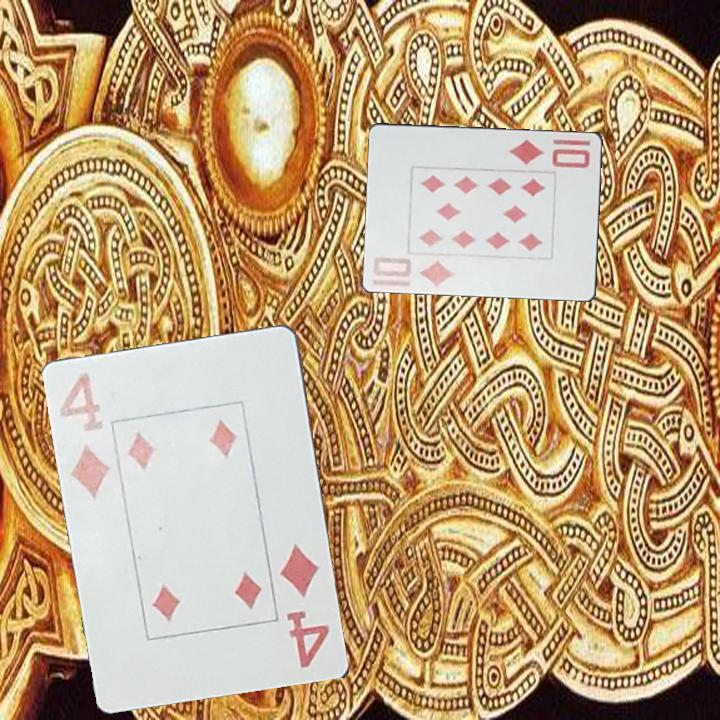4d: (56, 369, 113, 502), (276, 540, 333, 672)
Td: (370, 253, 458, 289), (506, 135, 593, 171)
